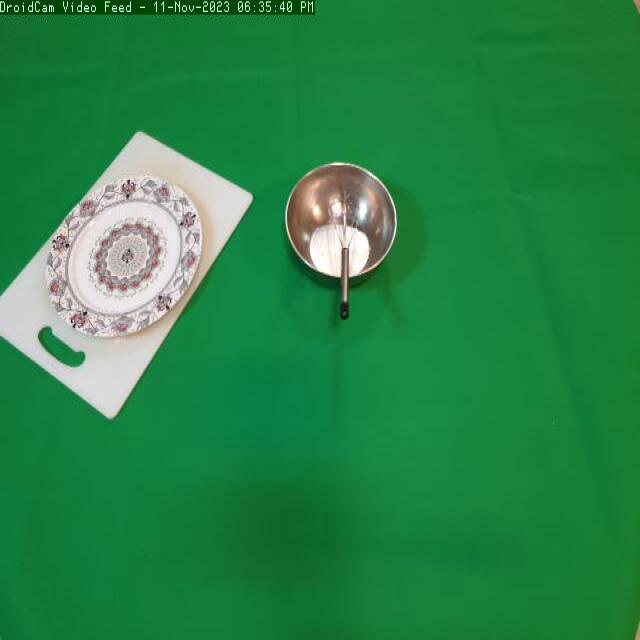bowl: (284, 161, 401, 282)
cutting board: (5, 122, 244, 427)
plate: (50, 176, 206, 344)
whisk: (321, 178, 369, 321)
